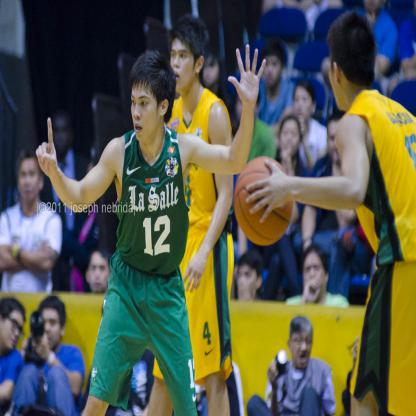Ball: (234, 157, 287, 247)
